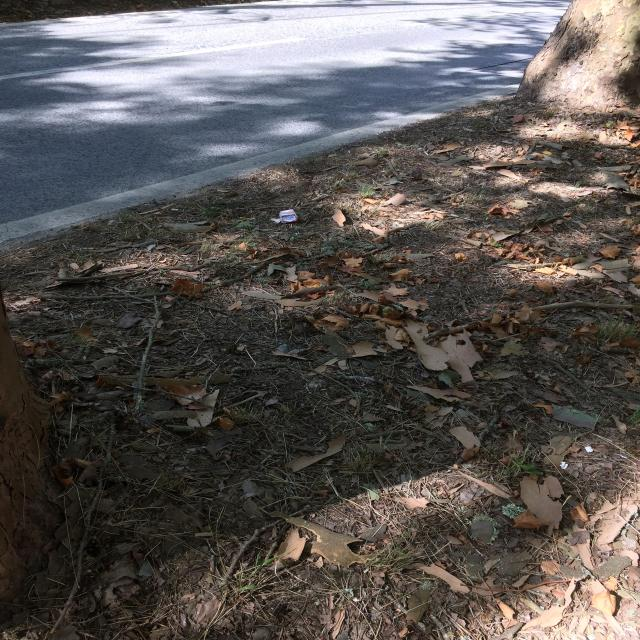litter: (279, 209, 298, 223), (171, 207, 179, 212)
